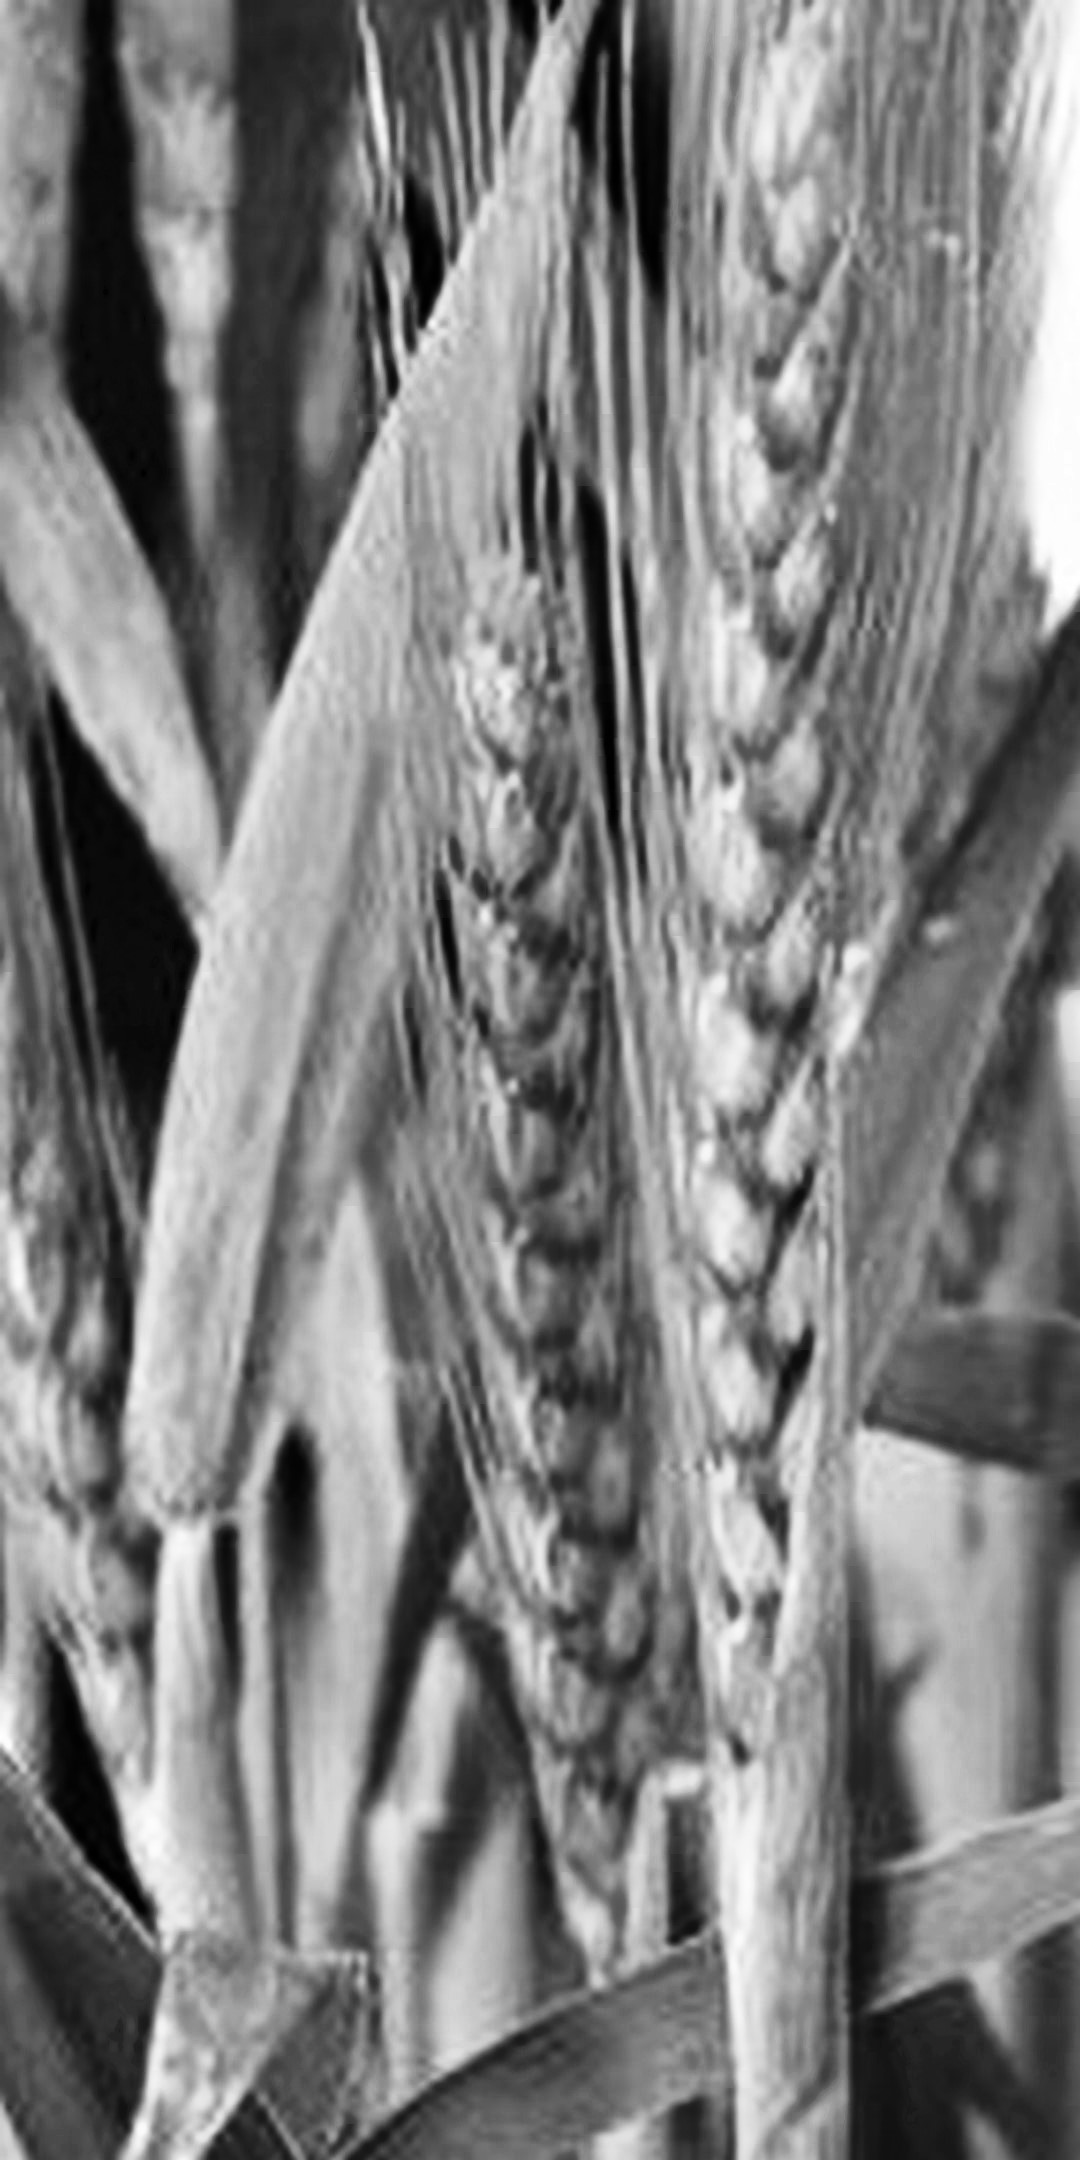Healthy Wheat: (360, 541, 703, 1882)
